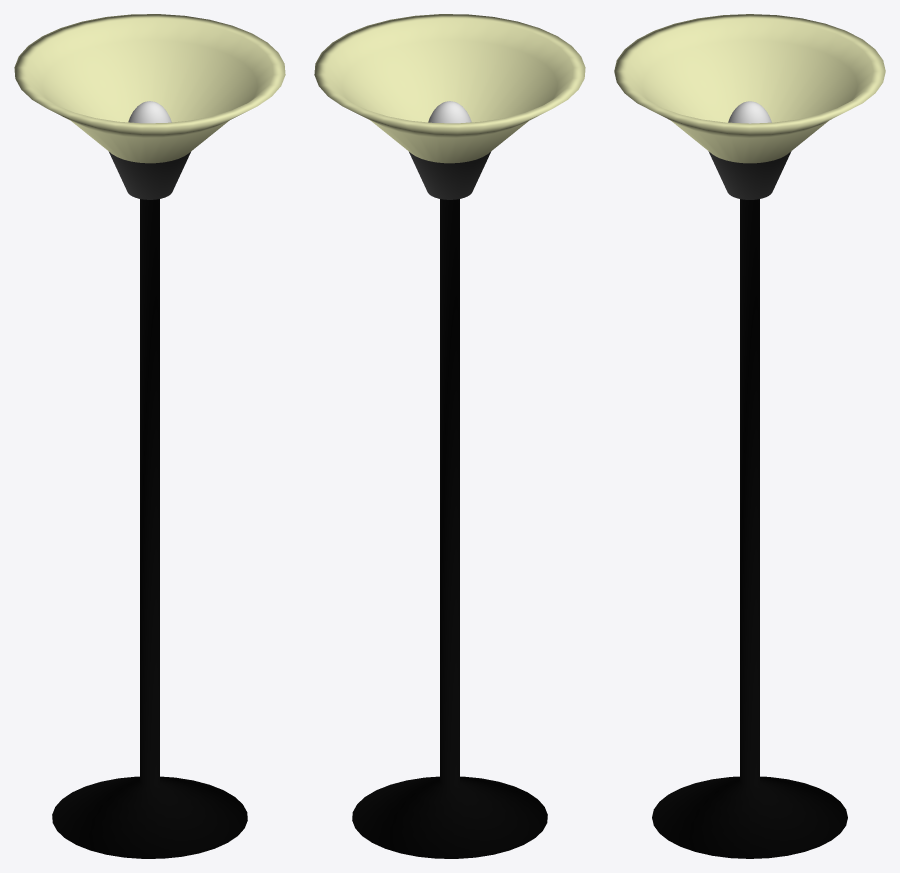
The model's file is lamp.fbx.
3 views of the same model, side by side, from view 1: azimuth 30°, elevation 25°; view 2: azimuth 150°, elevation 25°; view 3: azimuth 270°, elevation 25° (orthographic).
Parts seen in each view (by area): view 1: Cylinder; view 2: Cylinder; view 3: Cylinder.
Part boxes in pixels (<box>): Cylinder: <box>14,14,285,858</box>; Cylinder: <box>314,14,585,858</box>; Cylinder: <box>614,14,885,858</box>.
Bounding box in the file's own units: 347 × 1053 × 347.
